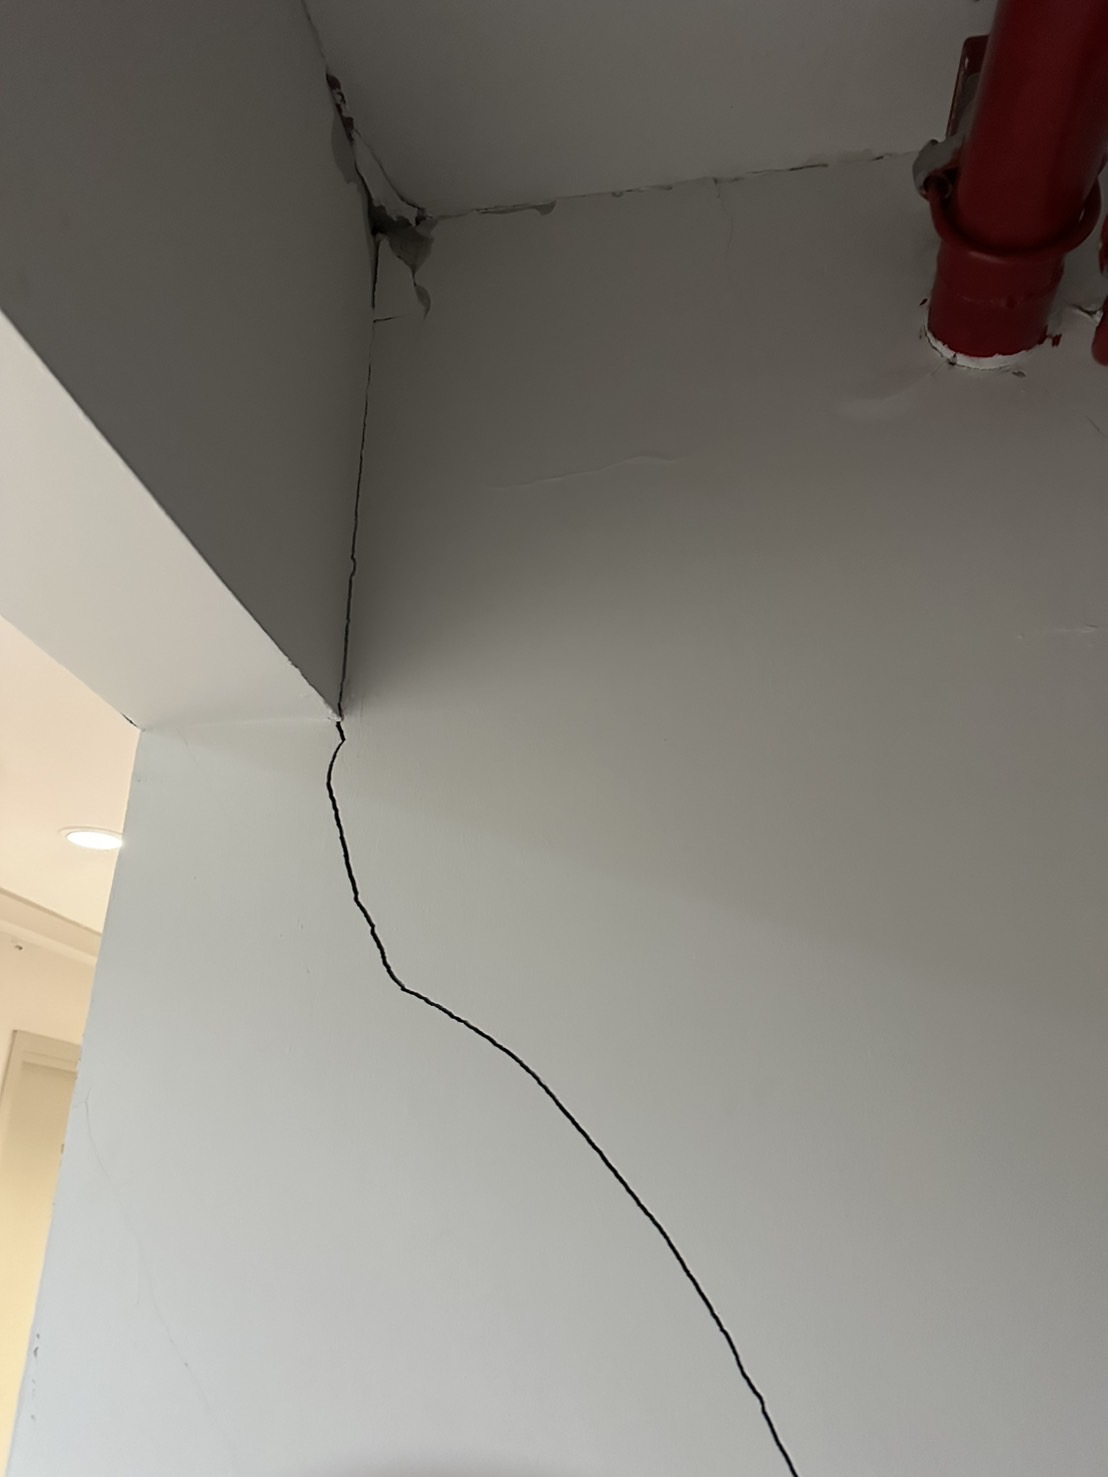Medium: (285, 732, 848, 1451)
